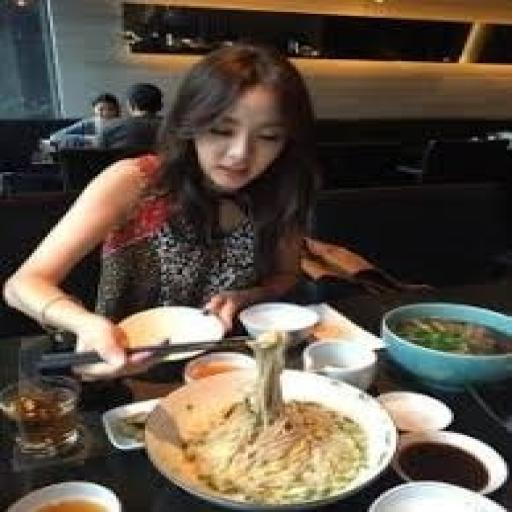eating: (0, 42, 325, 372)
